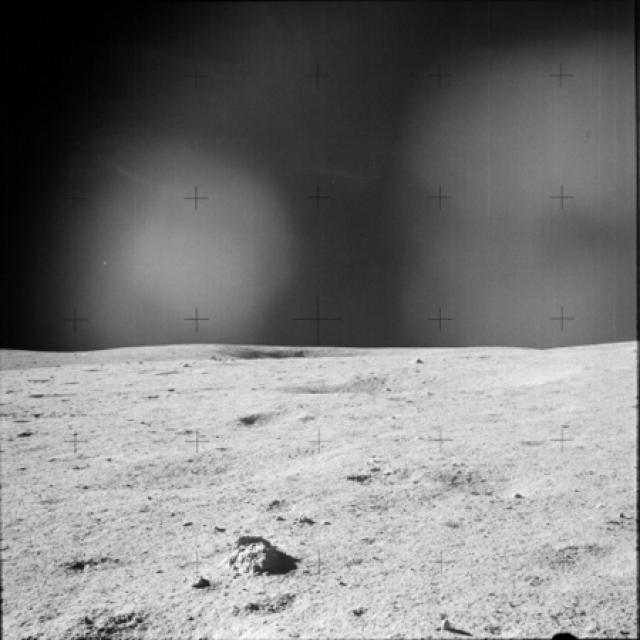crater: (81, 447, 363, 507), (270, 365, 587, 397), (421, 455, 582, 516), (518, 530, 638, 588), (220, 402, 312, 444), (342, 463, 438, 502), (56, 549, 136, 587)
rock: (206, 532, 299, 576), (184, 572, 210, 592)
